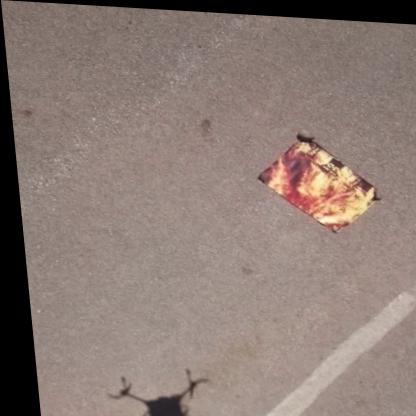fire-poster: (249, 130, 382, 232)
